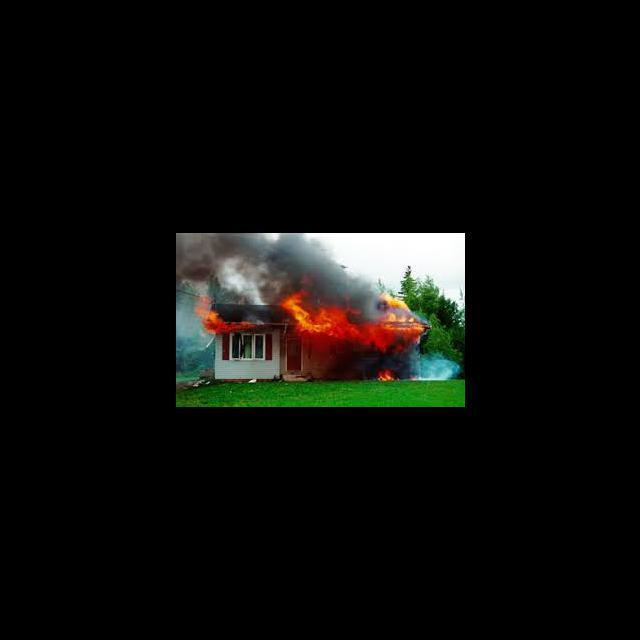Fire: (278, 294, 419, 348), (200, 306, 262, 338), (380, 290, 426, 330), (373, 366, 400, 383), (193, 293, 210, 302)
Smoke: (176, 233, 274, 304), (272, 236, 338, 274), (414, 352, 459, 381), (322, 273, 375, 295), (176, 310, 198, 340)
